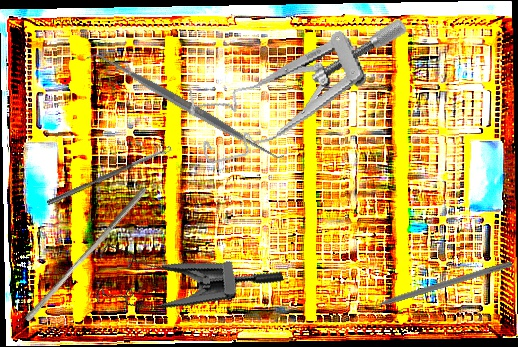Chopper: (357, 252, 513, 313)
Pusher: (23, 181, 149, 327)
Spatula Surgical: (84, 40, 288, 172)
Speculum: (178, 15, 427, 168), (81, 195, 285, 340)
Surgical Spoon: (46, 145, 173, 207)
